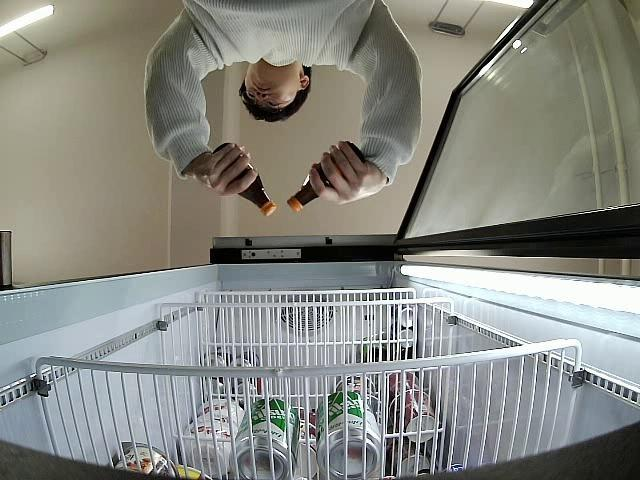17_vita500: (288, 140, 367, 213), (214, 142, 275, 218)
